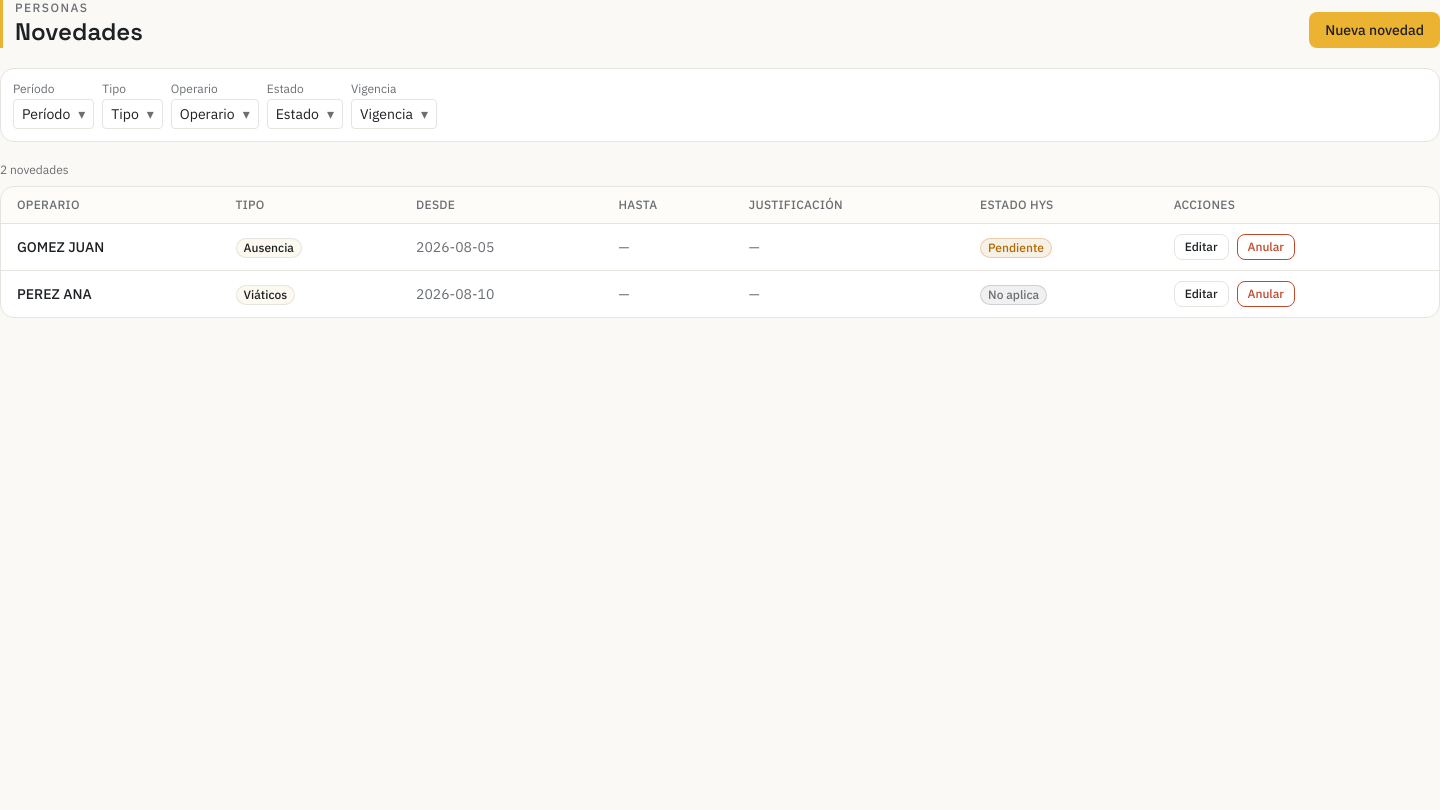
Test: NovedadesPage › Editar / Anular (Admin en cualquier tipo, HyS solo en Ausencia) › clickear "Editar" abre el formulario precargado con los datos actuales
The image size is (1440, 810).
Click the 1st button "Editar".
click(1201, 247)  # box [1174,234,1229,260]
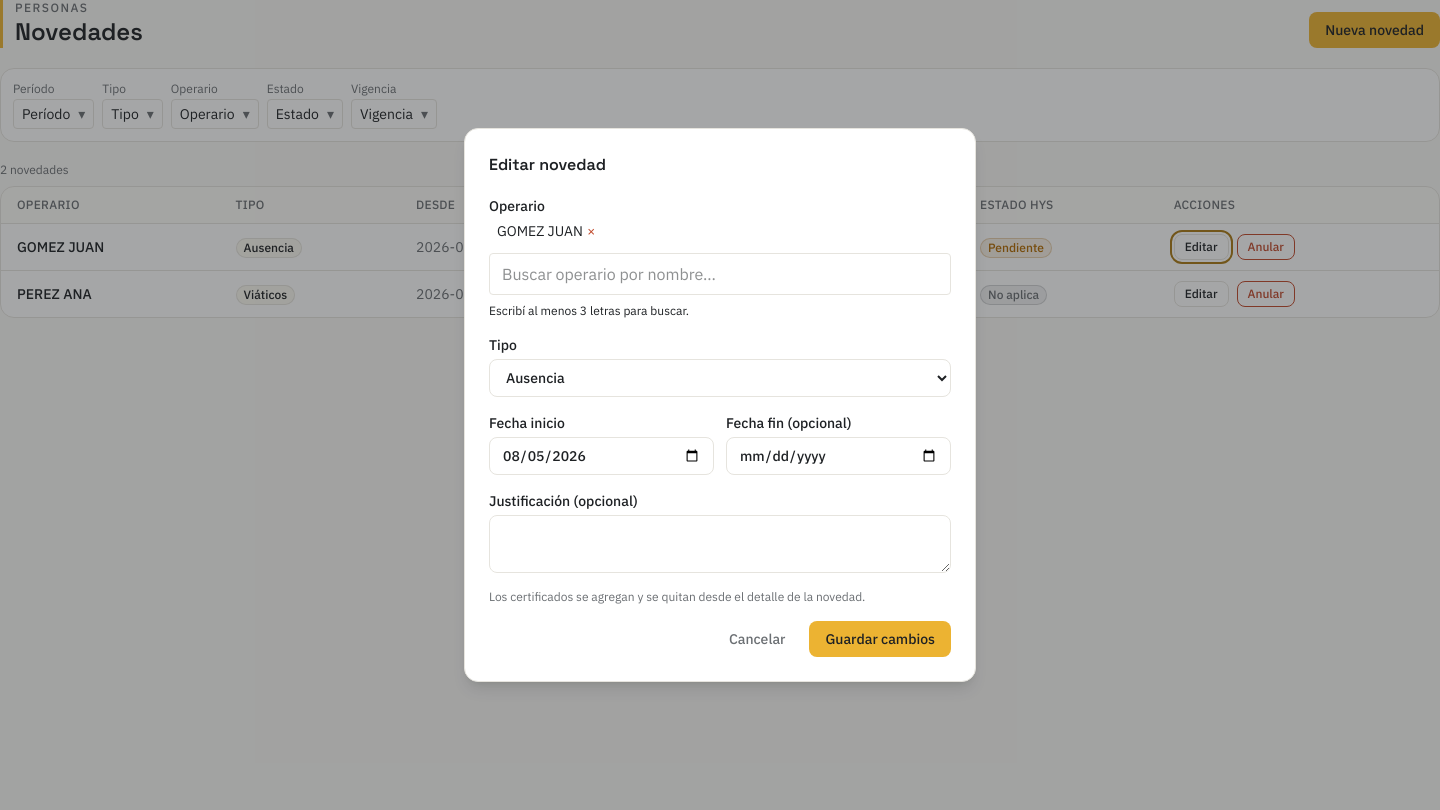
Expected: the heading "Editar novedad" is shown, [489,154,606,175]
Expected: the dropdown labelled "Tipo" shows "Ausencia", [489,359,951,397]
Expected: the date field labelled "Fecha inicio" holds "2026-08-05", [489,437,714,475]
